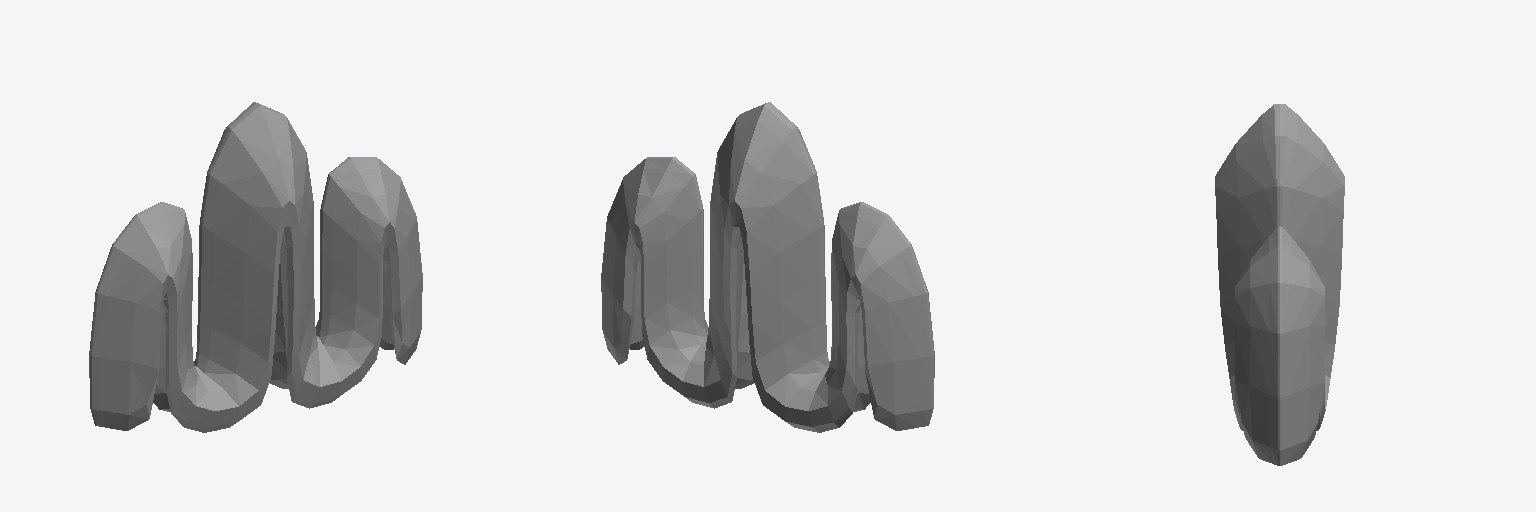
Rendered from Bush_2_Plane.obj.
3 renders of one model, left to right at view 1: azimuth 30°, elevation 25°; view 2: azimuth 150°, elevation 25°; view 3: azimuth 270°, elevation 25°, orthographic.
Visible parts, largest first — view 1: Bush_2_Plane.005; view 2: Bush_2_Plane.005; view 3: Bush_2_Plane.005.
Part boxes in pixels (left/top/right/bottom): Bush_2_Plane.005: left=89, top=102, right=422, bottom=432; Bush_2_Plane.005: left=601, top=102, right=934, bottom=432; Bush_2_Plane.005: left=1215, top=104, right=1344, bottom=465.
Size of the model in its own units: 1.82 by 1.6 by 0.6207.